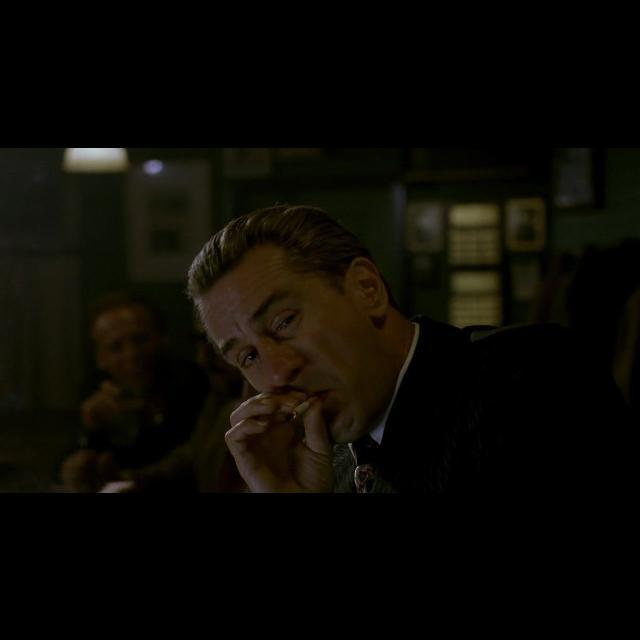rokok: (288, 396, 322, 420)
